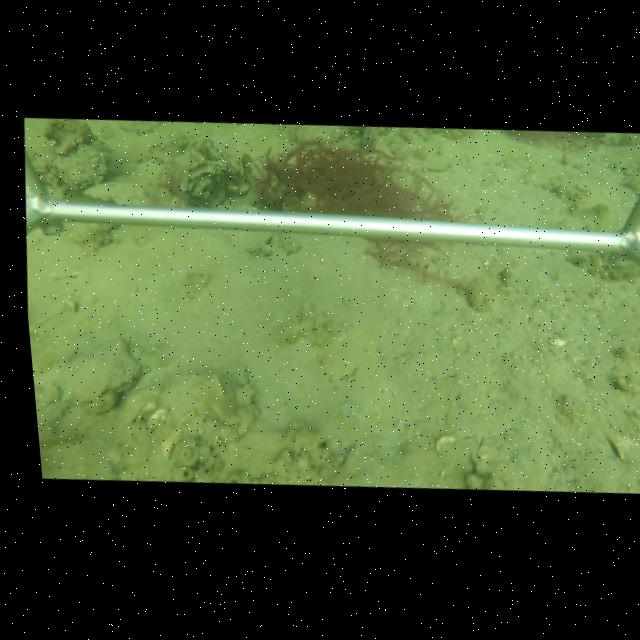Oyster-Closed: (33, 336, 150, 407)
Oyster-Indeterminate: (147, 372, 259, 454)
